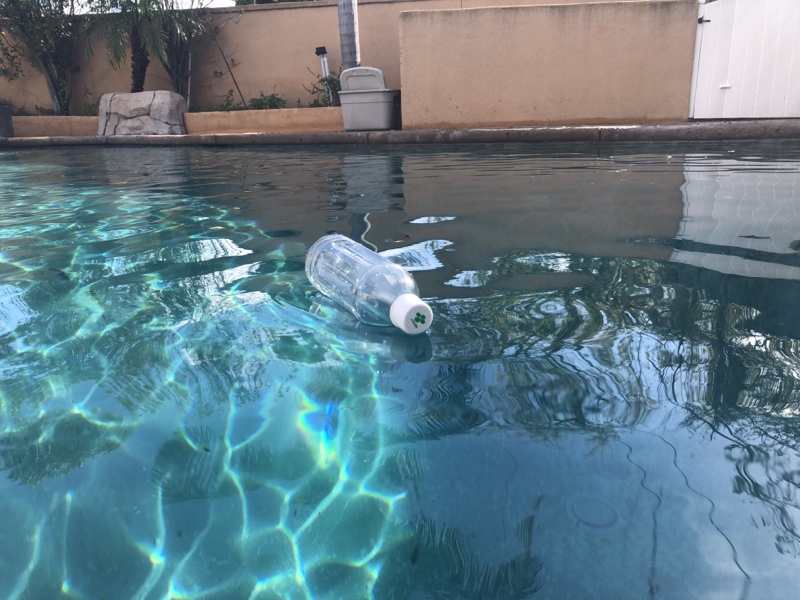Plastic Bottle: (301, 232, 437, 343)
